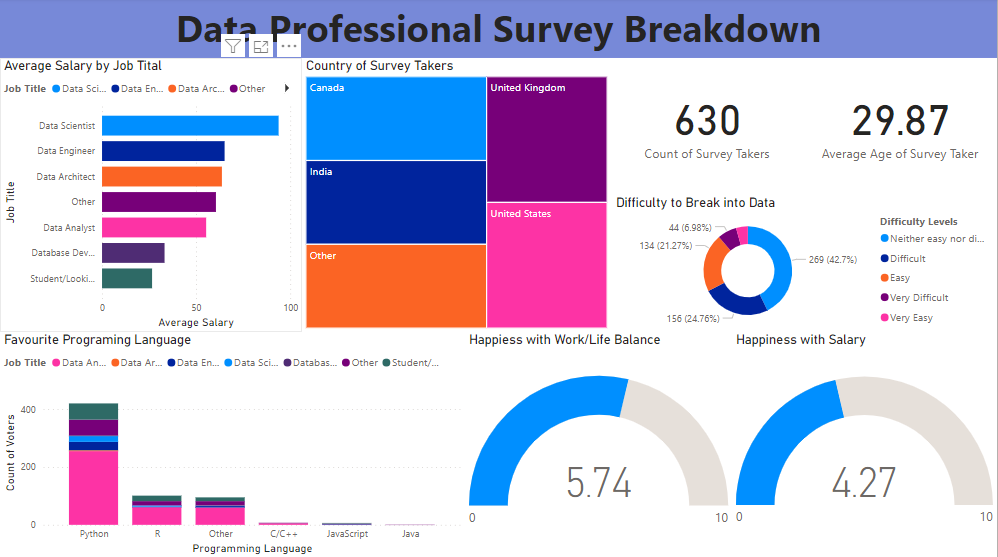

What the dashboard file says about the page in this screenshot:
{"tool":"powerbi","page":{"name":"Page 1","canvas":[1280,720],"ordinal":0},"visuals":[{"type":"textbox","box":[10,0,280,280],"z":0},{"type":"textbox","box":[0,0,1280.5,76.6],"z":1000},{"type":"card","fields":{"Values":["Count(Data Professional Survey.Unique ID)"]},"box":[784.4,76.6,246.8,167.5],"z":2000},{"type":"card","fields":{"Values":["Avg(Data Professional Survey.Q10 - Current Age)"]},"box":[1031.2,76.6,249.4,167.5],"z":3000},{"type":"barChart","title":"Average Salary by Job Tital","fields":{"Category":["Data Professional Survey.Q1 - Which Title Best Fits your Current Role?.1"],"Y":["Avg(Data Professional Survey.Average Salary)"],"Series":["Data Professional Survey.Q1 - Which Title Best Fits your Current Role?.1"]},"box":[0,77,387.7,351.8],"z":4000},{"type":"columnChart","title":"Favourite Programing Language","fields":{"Category":["Data Professional Survey.Q5 - Favorite Programming Language.1"],"Y":["CountNonNull(Data Professional Survey.Unique ID)"],"Series":["Data Professional Survey.Q1 - Which Title Best Fits your Current Role?.1"]},"box":[0,428.6,597.4,290.9],"z":5000},{"type":"treemap","title":"Country of Survey Takers","fields":{"Group":["Data Professional Survey.Q11 - Which Country do you live in?.1"],"Values":["Count(Data Professional Survey.Q11 - Which Country do you live in?.1)"]},"box":[387.7,77,396.7,351.8],"z":6000},{"type":"gauge","title":"Happiess with Work/Life Balance","fields":{"Y":["Avg(Data Professional Survey.Q6 - How Happy are you in your Current Position with the following? (Work/Life Balance))"],"MinValue":["Min(Data Professional Survey.Q6 - How Happy are you in your Current Position with the following? (Work/Life Balance))"],"MaxValue":["Max(Data Professional Survey.Q6 - How Happy are you in your Current Position with the following? (Work/Life Balance))"]},"box":[597.4,428.6,342.9,290.9],"z":7000},{"type":"gauge","title":"Happiness with Salary","fields":{"Y":["Avg(Data Professional Survey.Q6 - How Happy are you in your Current Position with the following? (Salary))"],"MinValue":["Min(Data Professional Survey.Q6 - How Happy are you in your Current Position with the following? (Salary))"],"MaxValue":["Max(Data Professional Survey.Q6 - How Happy are you in your Current Position with the following? (Salary))"]},"box":[940,428.6,340,291.4],"z":8000},{"type":"donutChart","title":"Difficulty to Break into Data","fields":{"Category":["Data Professional Survey.Q7 - How difficult was it for you to break into Data?"],"Y":["CountNonNull(Data Professional Survey.Q7 - How difficult was it for you to break into Data?)"]},"box":[785.7,253.2,494.8,175.3],"z":9000}]}

Visuals, with their boxes in screenshot pixels (x1, y1, x2, y2):
textbox: [left=13, top=0, right=226, bottom=211]
textbox: [left=5, top=0, right=981, bottom=56]
card - Count(Data Professional Survey.Unique ID): [left=603, top=56, right=791, bottom=183]
card - Avg(Data Professional Survey.Q10 - Current Age): [left=791, top=56, right=981, bottom=183]
"Average Salary by Job Tital" barChart: [left=5, top=56, right=301, bottom=324]
"Favourite Programing Language" columnChart: [left=5, top=324, right=460, bottom=546]
"Country of Survey Takers" treemap: [left=301, top=56, right=603, bottom=324]
"Happiess with Work/Life Balance" gauge: [left=460, top=324, right=722, bottom=546]
"Happiness with Salary" gauge: [left=721, top=324, right=980, bottom=546]
"Difficulty to Break into Data" donutChart: [left=604, top=190, right=981, bottom=324]
